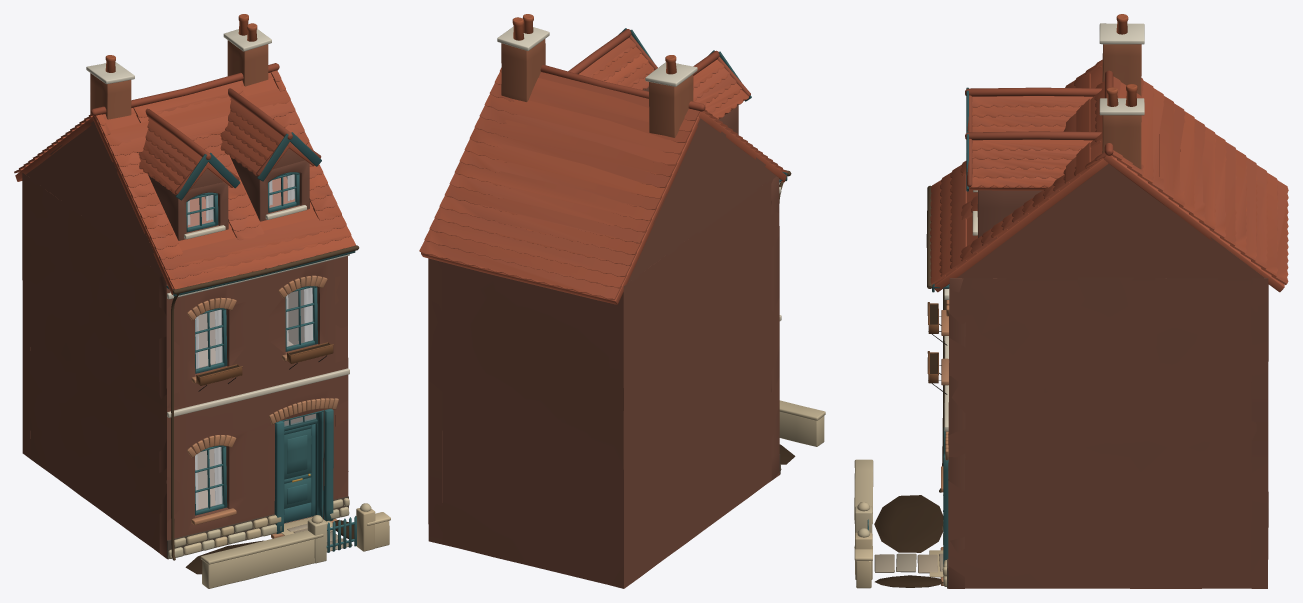
File: Opposite_Opposite2_3.glb
3 renders of one model, left to right at view 1: azimuth 30°, elevation 25°; view 2: azimuth 150°, elevation 25°; view 3: azimuth 270°, elevation 25°, orthographic. The views are drawn at different scales.
Parts seen in each view (by area): view 1: Sammel Ziegel, Sammel Stein, Sammel Lack, Sammel Putz, Glas, Sammel Putz innen, Vorhang Leinen, Sammel Metall, Sammel Holz; view 2: Sammel Ziegel, Sammel Stein, Sammel Putz; view 3: Sammel Ziegel, Sammel Stein, Sammel Putz, Sammel Lack, Sammel Metall.
Part boxes in pixels (x1,y1,x2,y2): Sammel Ziegel: [22, 40, 348, 558]; Sammel Stein: [14, 63, 390, 588]; Sammel Lack: [166, 132, 356, 552]; Sammel Putz: [86, 14, 354, 574]; Glas: [188, 174, 315, 510]; Sammel Putz innen: [197, 289, 315, 523]; Vorhang Leinen: [187, 174, 312, 510]; Sammel Metall: [171, 245, 359, 560]; Sammel Holz: [196, 342, 333, 385]; Sammel Ziegel: [428, 39, 779, 588]; Sammel Stein: [419, 29, 825, 470]; Sammel Putz: [497, 14, 795, 474]; Sammel Ziegel: [940, 44, 1268, 588]; Sammel Stein: [854, 59, 1288, 588]; Sammel Putz: [874, 14, 1144, 588]; Sammel Lack: [867, 87, 968, 566]; Sammel Metall: [926, 185, 947, 492].
Size of the model in its own units: 4.64 by 10.63 by 8.44.
